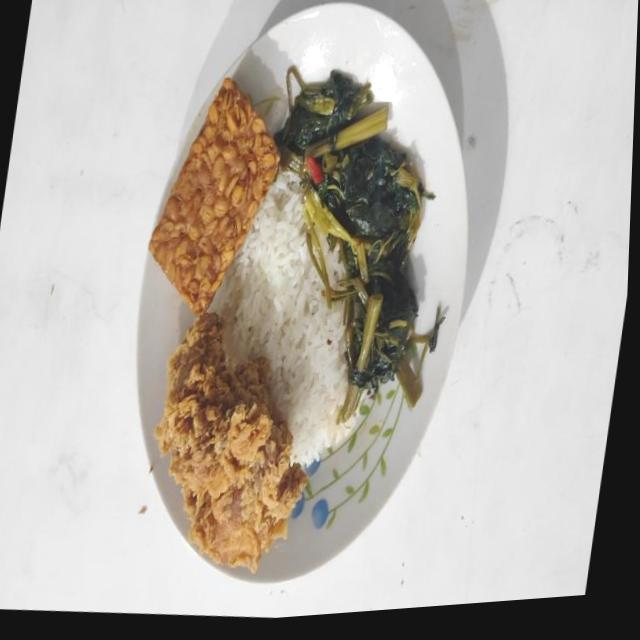nasi_putih: (210, 168, 356, 474)
tempe_goreng: (148, 77, 280, 316)
tumis_kangkung: (274, 65, 443, 422)
